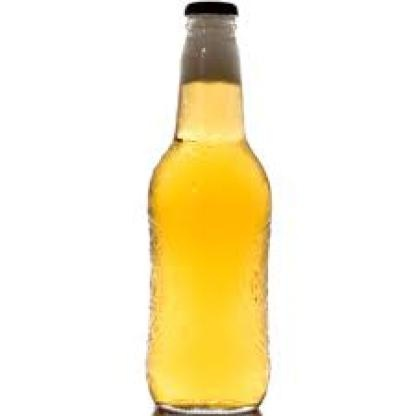trash: (147, 2, 270, 415)
